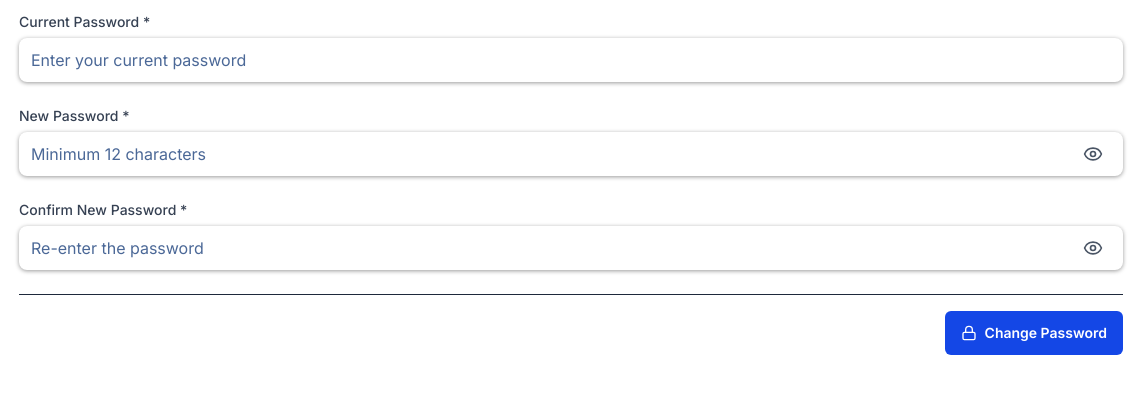
PasswordSettings › validates that new password is different from current
Type "SamePassword123!" into the password field with placeholder "Enter your current password" at (571, 60), box 19,38 -> 1123,82
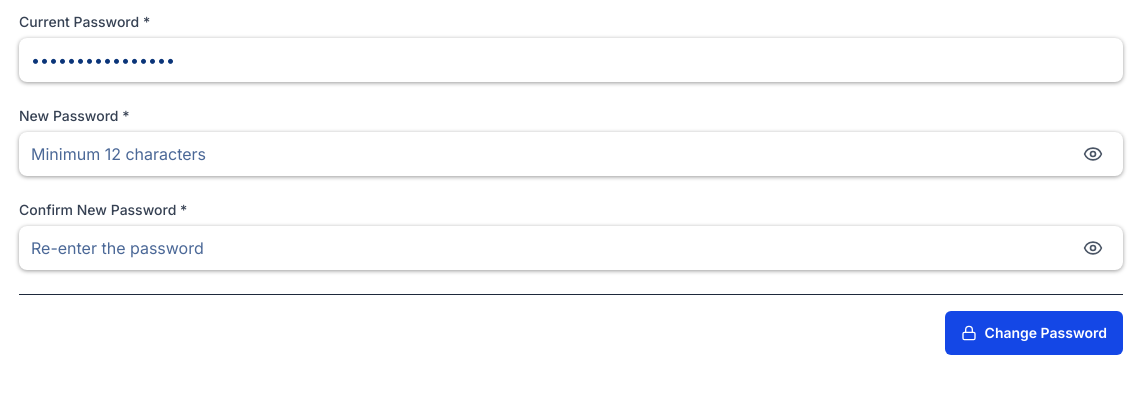
Type "SamePassword123!" into the password field with placeholder "Minimum 12 characters" at (571, 154), box 19,132 -> 1123,176
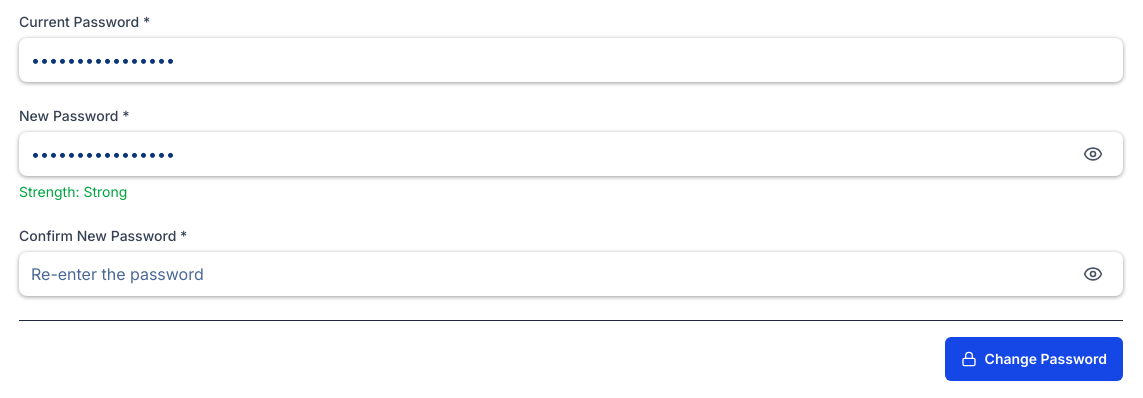
Type "SamePassword123!" into the password field with placeholder "Re-enter the password" at (571, 274), box 19,252 -> 1123,296
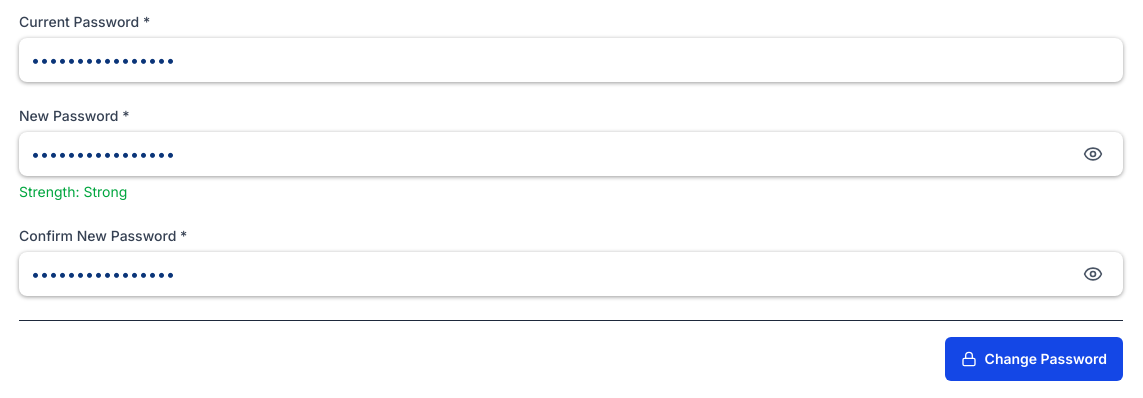
Click the button "Change Password" at (1034, 359), box 945,337 -> 1123,381
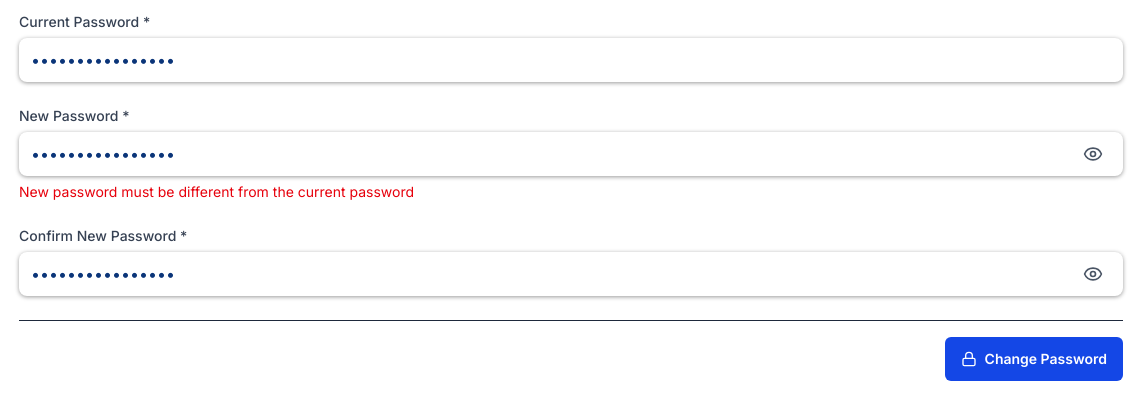
Result: the text "New password must be different from the current password" is shown at 19,183 -> 414,200
